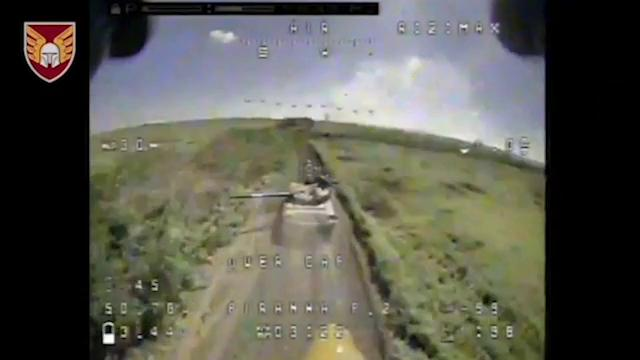tank: (230, 159, 340, 240)
